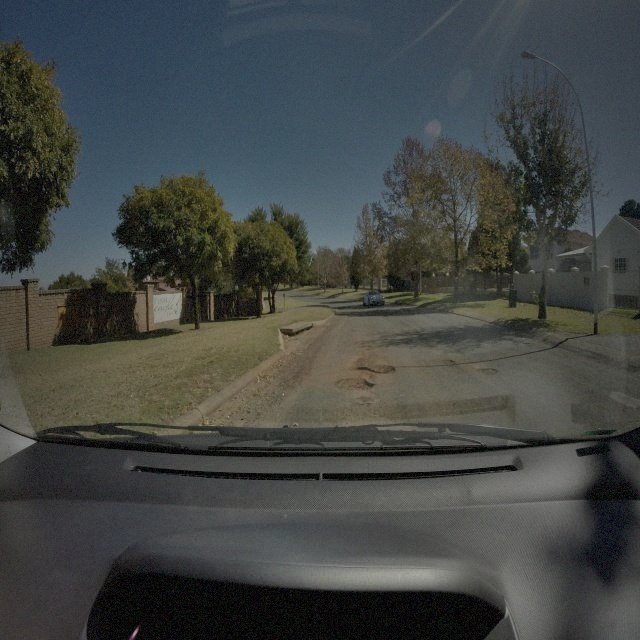pothole: (335, 377, 375, 394), (373, 363, 396, 374), (478, 366, 498, 376), (444, 356, 454, 365)
